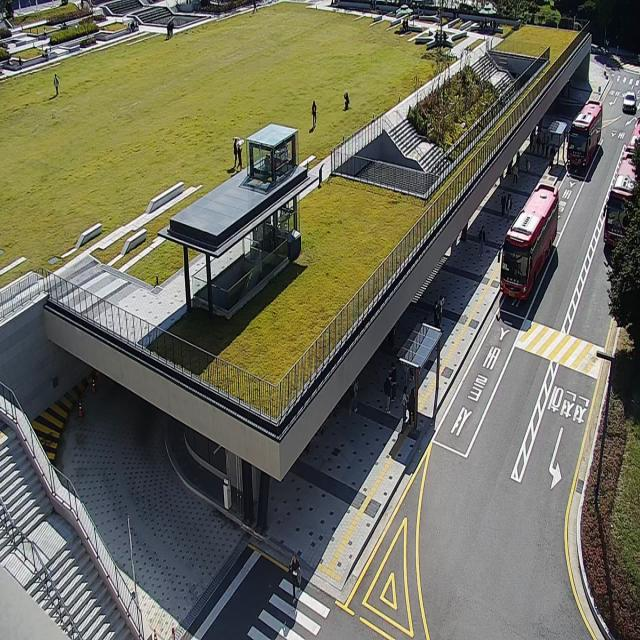queue: (388, 294, 446, 418)
